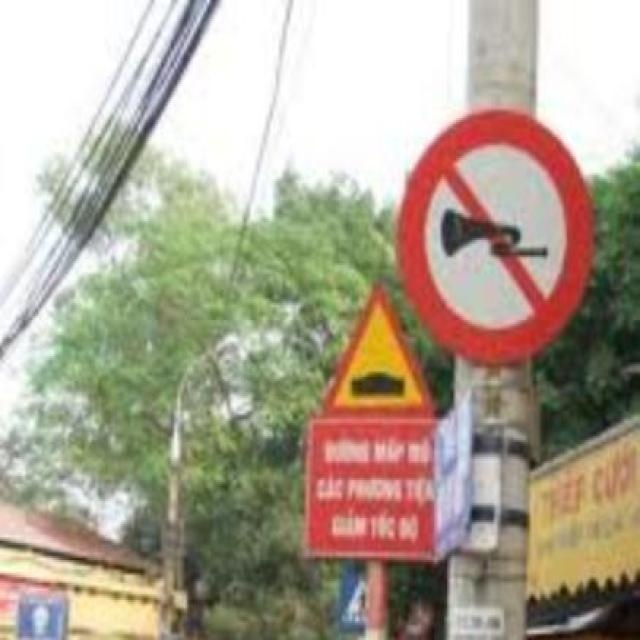bien_cam: (395, 105, 599, 362), (323, 283, 435, 419)
